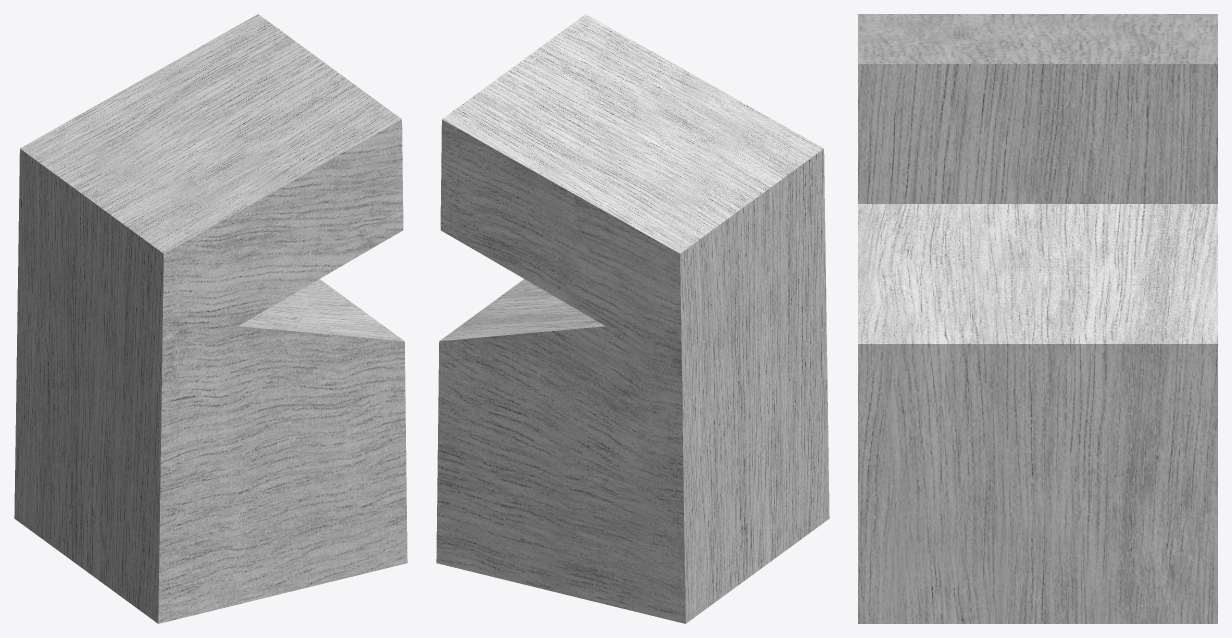
File: knight.obj
3 renders of one model, left to right at view 1: azimuth 30°, elevation 25°; view 2: azimuth 150°, elevation 25°; view 3: azimuth 270°, elevation 25°, orthographic. The views are drawn at different scales.
Parts seen in each view (by area): view 1: knight; view 2: knight; view 3: knight.
Boxes of the visible parts, <box> form: knight: <box>14,14,407,623</box>; knight: <box>436,14,829,623</box>; knight: <box>858,14,1217,623</box>.
Size of the model in its own units: 1.28 by 2.19 by 1.28.
